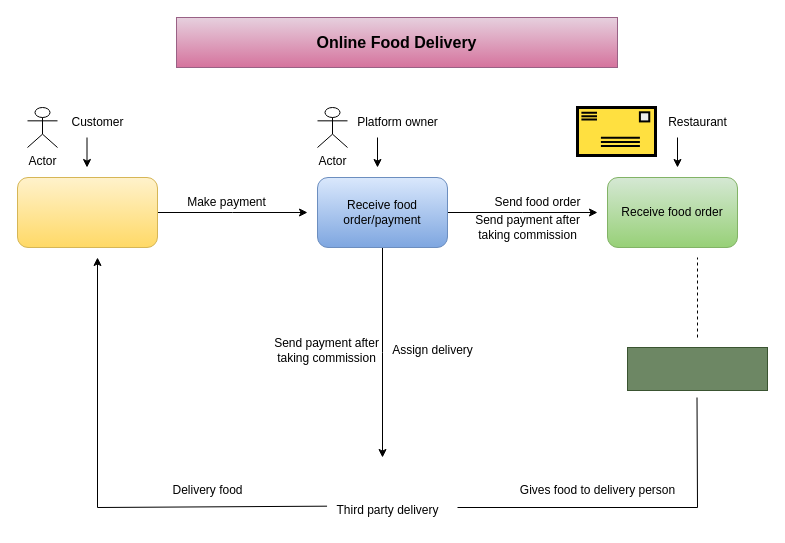
This 785x543 diagram has some shape labels left out. The shapes that lost their labels are listed below. From the top down, each one's centre as x and y in pixels, then its label:
At point 87,212: "Place food order".
At point 697,368: "Prepare & pack food".
